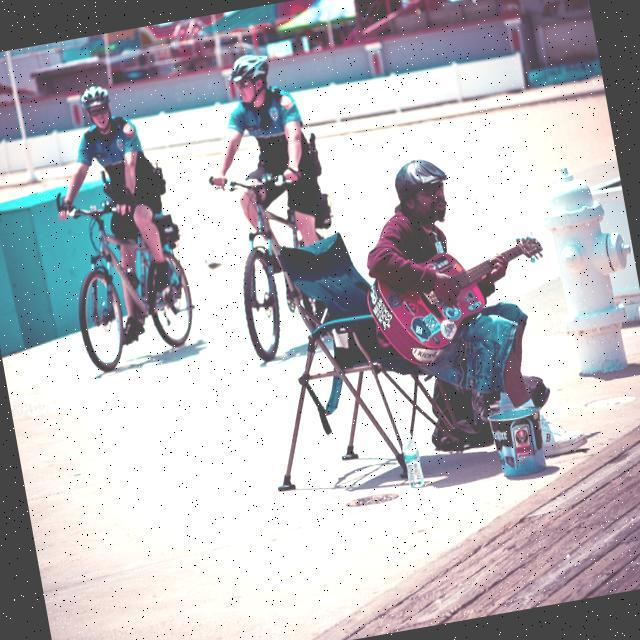fire_hydrant: (532, 156, 640, 379)
